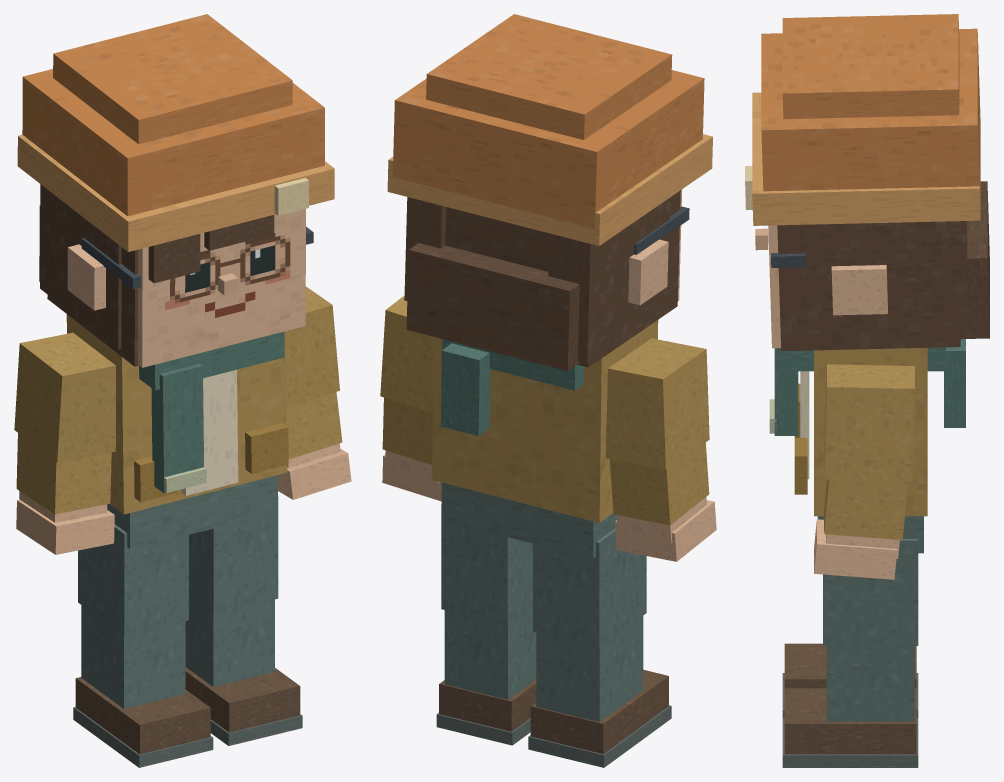
The picture shows the model from 3 angles, left to right: view 1: azimuth 30°, elevation 25°; view 2: azimuth 150°, elevation 25°; view 3: azimuth 270°, elevation 25°; orthographic projection. The views are drawn at different scales.
Visible parts, largest first — view 1: accessory:beanie, outfit:cardigan, object 6, object 15, object 2, hair:shaggy, object 23, object 24, object 27, object 28, object 1, object 25 (+13 smaller); view 2: accessory:beanie, hair:shaggy, object 2, object 15, object 23, object 24, object 27, object 28, object 1, outfit:cardigan, object 5, object 18 (+12 smaller); view 3: accessory:beanie, hair:shaggy, object 19, object 27, object 28, outfit:cardigan, object 5, object 2, object 29, object 22, object 21, object 8 (+6 smaller).
Part boxes in pixels (bbox=[...]): accessory:beanie: bbox=[17, 14, 334, 251]; outfit:cardigan: bbox=[134, 331, 288, 502]; object 6: bbox=[138, 209, 305, 367]; object 15: bbox=[14, 332, 115, 462]; object 2: bbox=[66, 314, 287, 514]; hair:shaggy: bbox=[39, 184, 274, 349]; object 23: bbox=[78, 524, 188, 636]; object 24: bbox=[81, 605, 185, 708]; object 27: bbox=[189, 496, 278, 614]; object 28: bbox=[185, 596, 274, 686]; object 1: bbox=[107, 475, 277, 548]; object 25: bbox=[75, 677, 210, 754]; accessory:beanie: bbox=[387, 14, 712, 245]; hair:shaggy: bbox=[404, 197, 670, 370]; object 2: bbox=[432, 320, 658, 522]; object 15: bbox=[605, 338, 709, 469]; object 23: bbox=[533, 528, 646, 647]; object 24: bbox=[536, 616, 643, 721]; object 27: bbox=[441, 504, 532, 625]; object 28: bbox=[444, 607, 536, 699]; object 1: bbox=[441, 482, 616, 558]; outfit:cardigan: bbox=[440, 339, 583, 436]; object 5: bbox=[445, 190, 680, 367]; object 18: bbox=[609, 443, 709, 525]; accessory:beanie: bbox=[745, 14, 980, 225]; hair:shaggy: bbox=[804, 181, 989, 339]; object 19: bbox=[824, 364, 914, 481]; object 27: bbox=[823, 539, 918, 645]; object 28: bbox=[826, 646, 914, 721]; outfit:cardigan: bbox=[769, 339, 965, 494]; object 5: bbox=[777, 224, 960, 351]; object 2: bbox=[814, 347, 927, 516]; object 29: bbox=[784, 688, 916, 754]; object 22: bbox=[824, 479, 908, 539]; object 21: bbox=[814, 519, 897, 579]; object 8: bbox=[831, 265, 887, 315].
Size of the model in its own units: 0.9657 by 2.07 by 0.6814.
16 materials, 16 textured.
